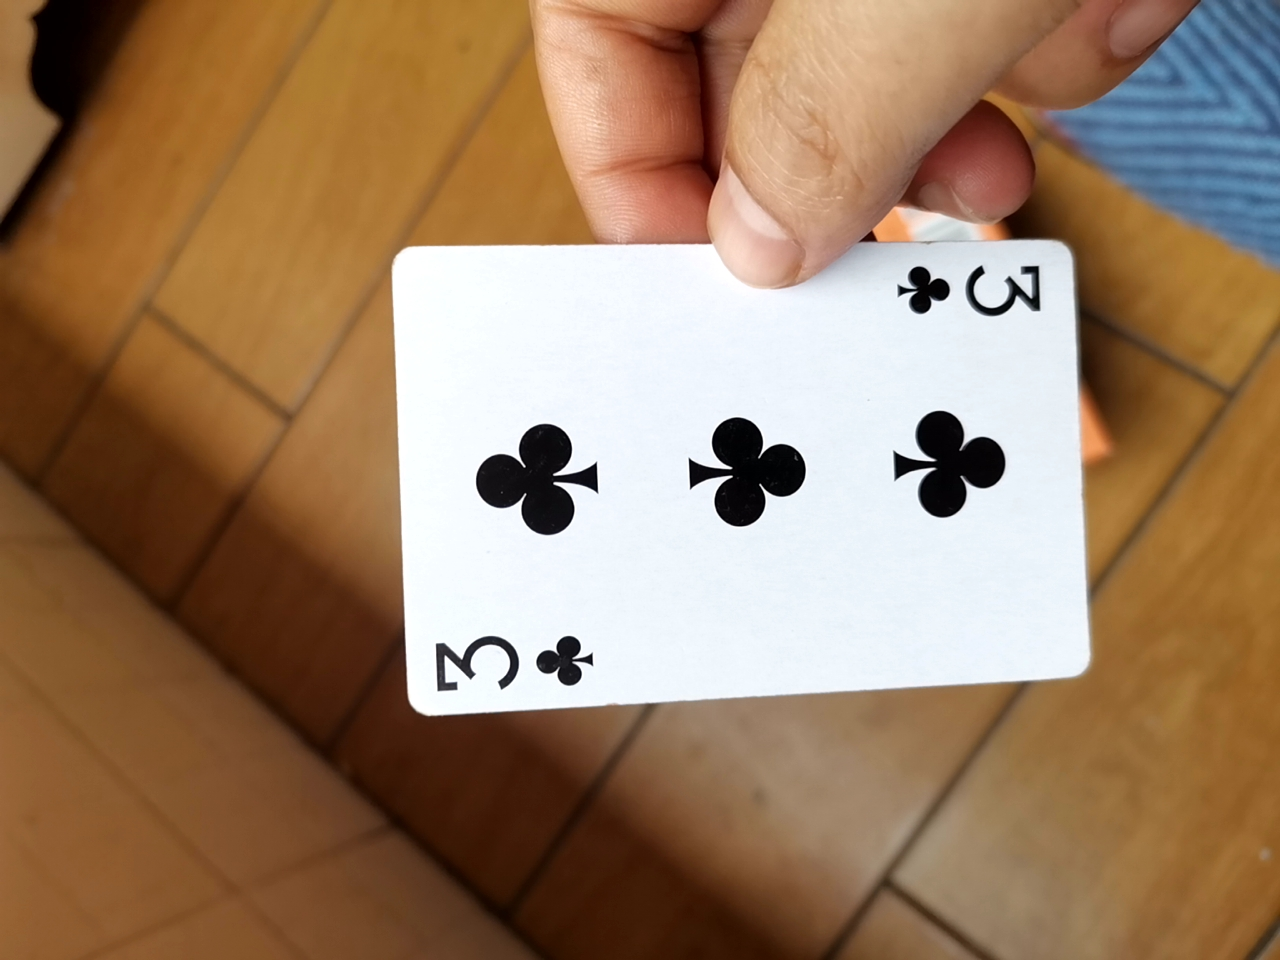mh 3: (375, 234, 1068, 731)
